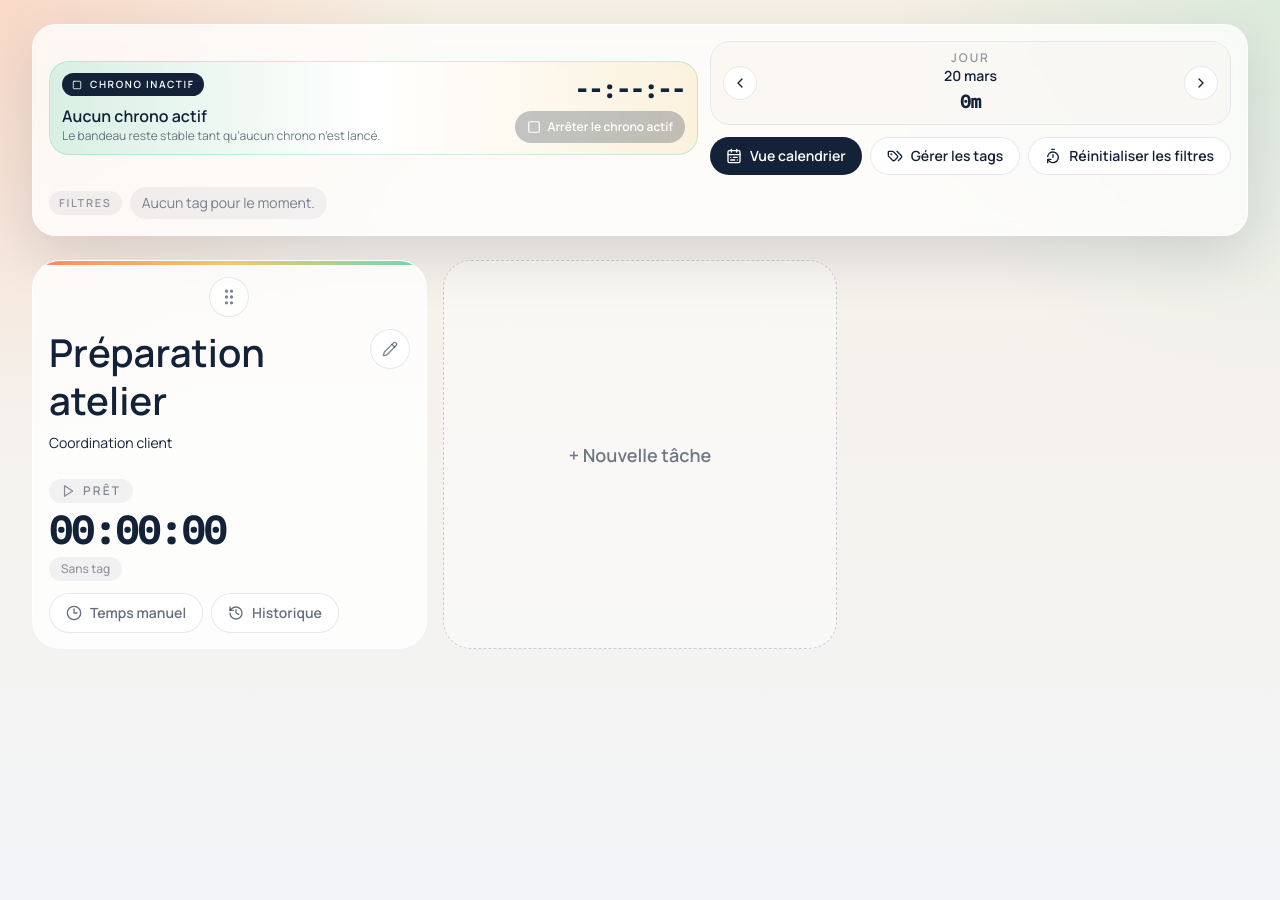
Time Tracker integration › keeps secondary task actions operable while the main card surface stays interactive
Step 1. Click the button "Temps manuel" → (126, 613), box [49,593,203,633]
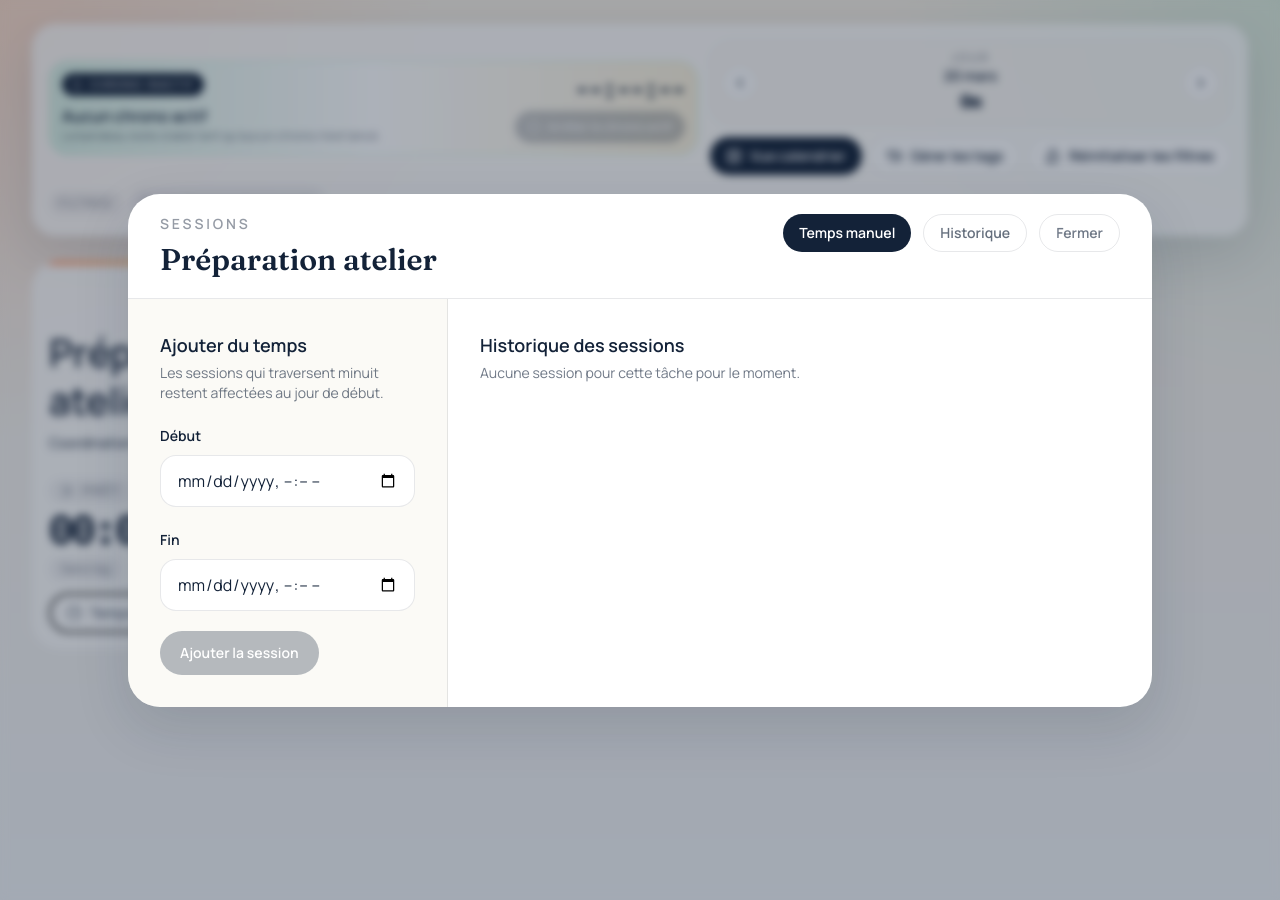
Check: the dialog named "temps et historique pour préparation atelier" is shown
Step 2. Click the button "Fermer" → (1080, 232), box [1039,214,1120,252]
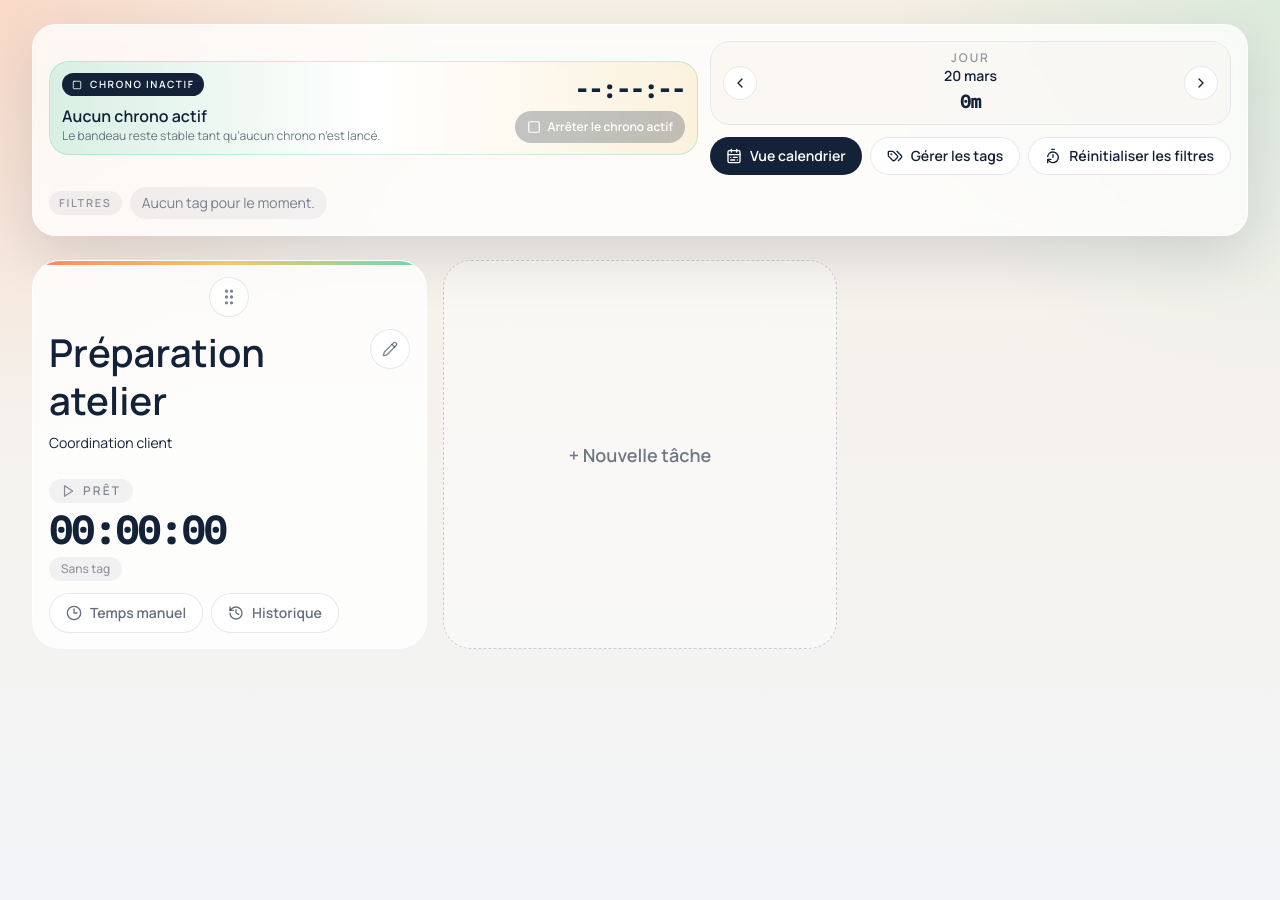
Step 3. Click the button named "modifier préparation atelier" → (390, 349), box [370,329,410,369]
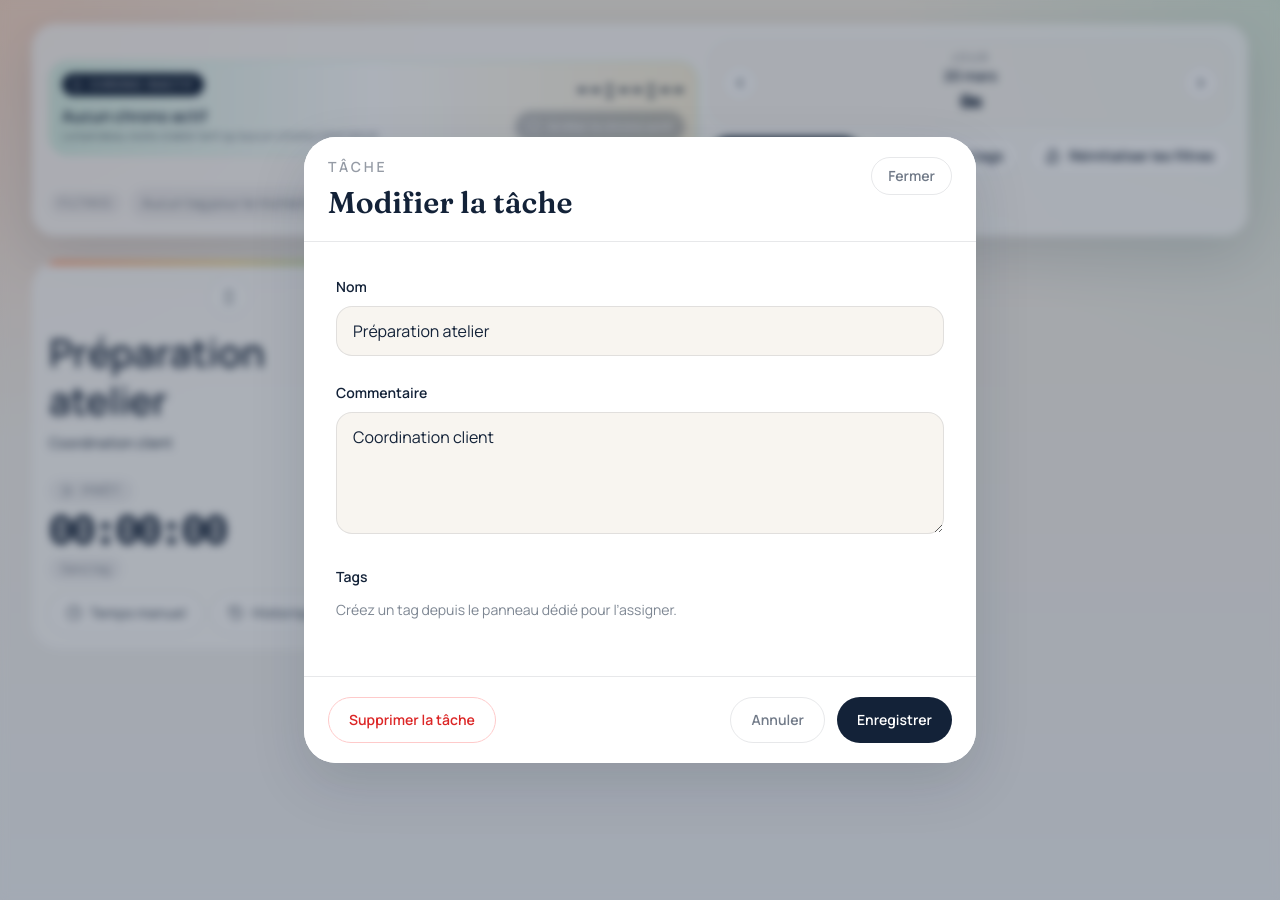
Check: the dialog "Modifier la tâche" is shown
